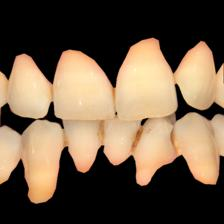cavity: (130, 123, 145, 156), (30, 186, 49, 201), (21, 136, 30, 163), (170, 131, 180, 155), (45, 82, 56, 100), (61, 131, 70, 146), (100, 121, 105, 144), (111, 87, 118, 102)
tooth: (117, 35, 175, 119), (54, 50, 113, 120), (22, 121, 63, 202), (177, 115, 219, 186), (179, 41, 216, 111), (9, 53, 48, 118), (64, 121, 104, 173), (137, 118, 169, 183), (103, 120, 143, 164)
